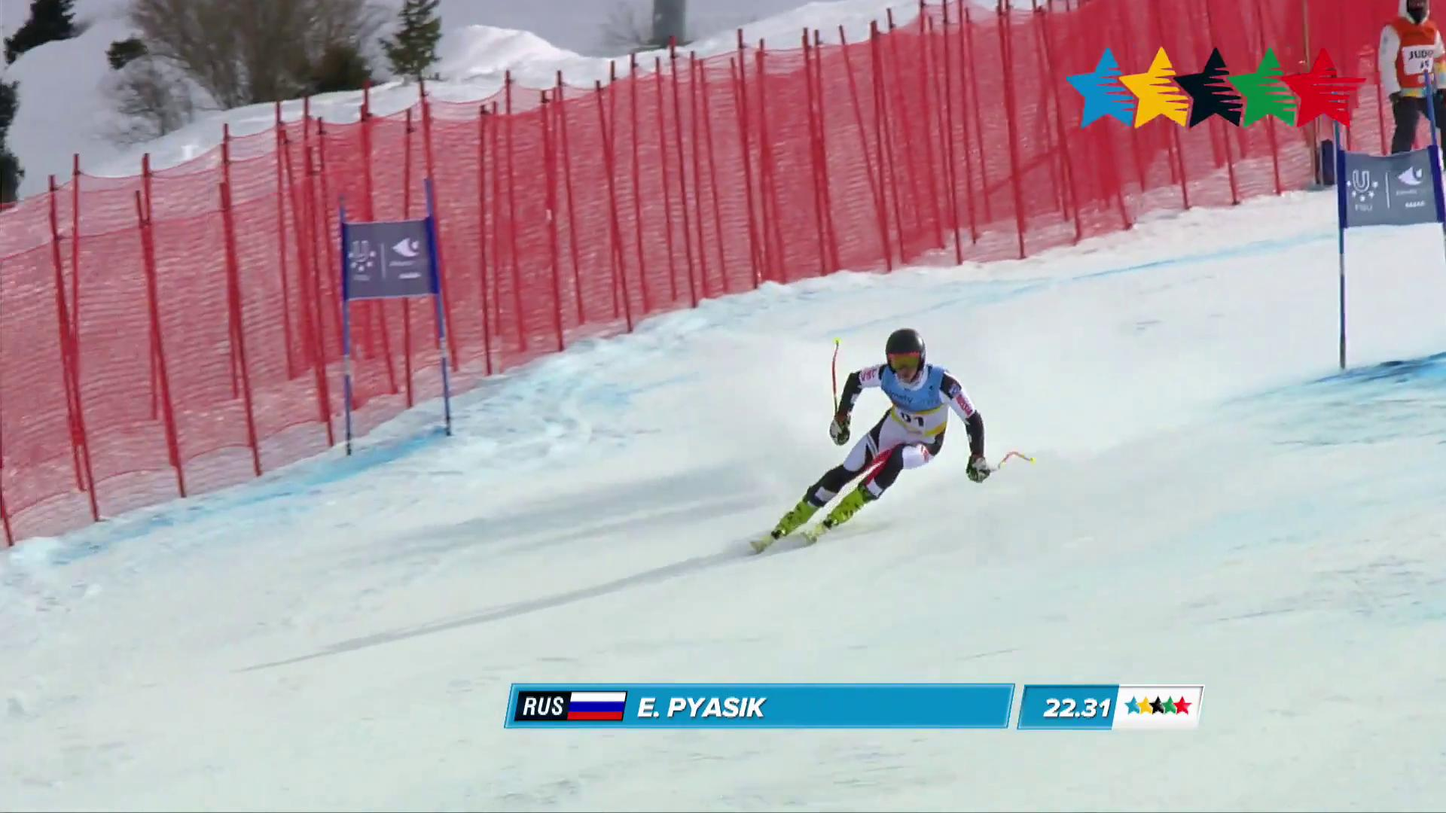gate: (339, 177, 452, 455), (1335, 145, 1445, 368)
